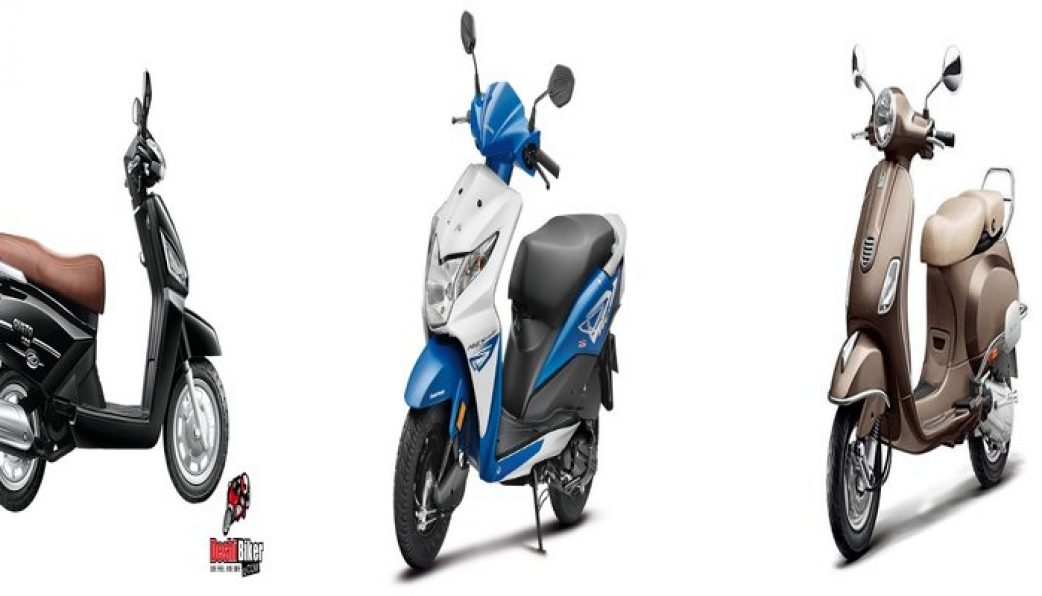scooter: (388, 9, 623, 572), (821, 38, 1025, 562), (1, 70, 229, 514)
